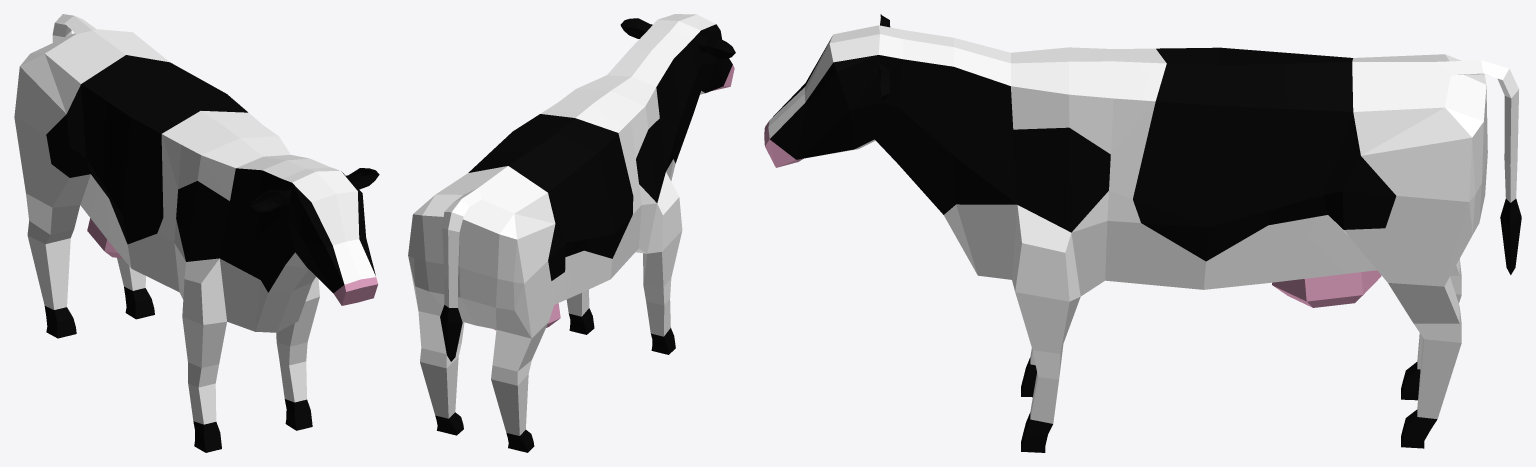
The model's file is chicken.glb.
3 views of the same model, side by side, from view 1: azimuth 30°, elevation 25°; view 2: azimuth 150°, elevation 25°; view 3: azimuth 270°, elevation 25° (orthographic). The views are drawn at different scales.
Visible parts, largest first — view 1: Cow; view 2: Cow; view 3: Cow.
Boxes of the visible parts, x1,y1,x2,y2 form: Cow: (14,14,379,452); Cow: (408,14,735,452); Cow: (764,14,1521,452).
Size of the model in its own units: 0.7403 by 1.69 by 3.02.
1 material, 1 textured.
